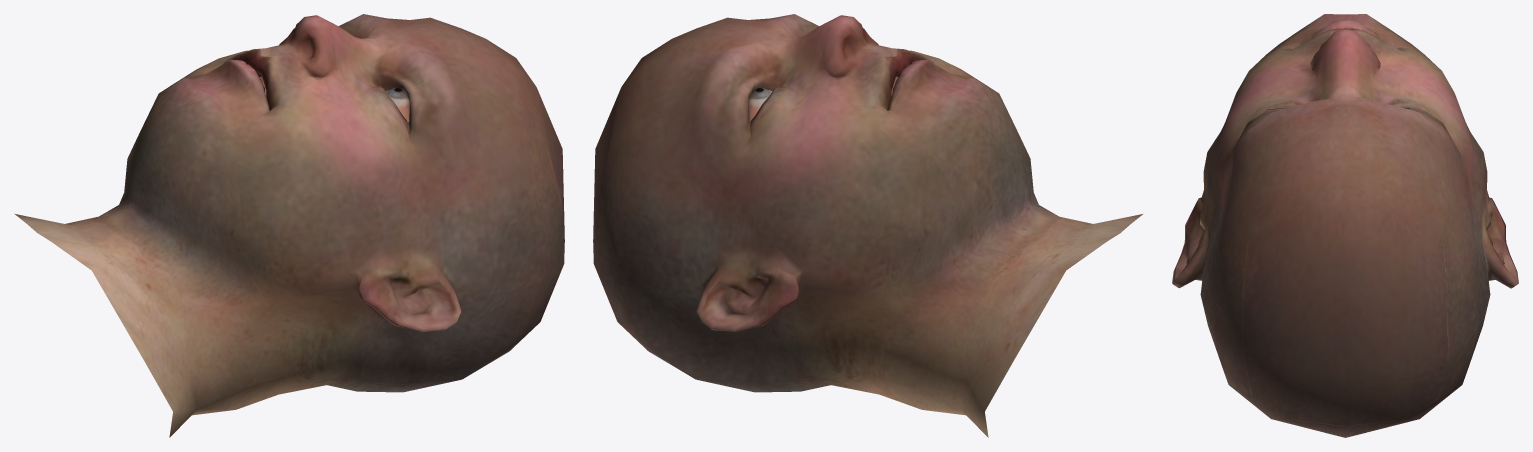
The model's file is head_russian_winter_jesse.glb.
The picture shows the model from 3 angles, left to right: view 1: azimuth 30°, elevation 25°; view 2: azimuth 150°, elevation 25°; view 3: azimuth 270°, elevation 25°; orthographic projection. The views are drawn at different scales.
Bounding box in the file's own units: 12.56 × 8.82 × 7.97.
Materials: 1 (1 with a texture image).
